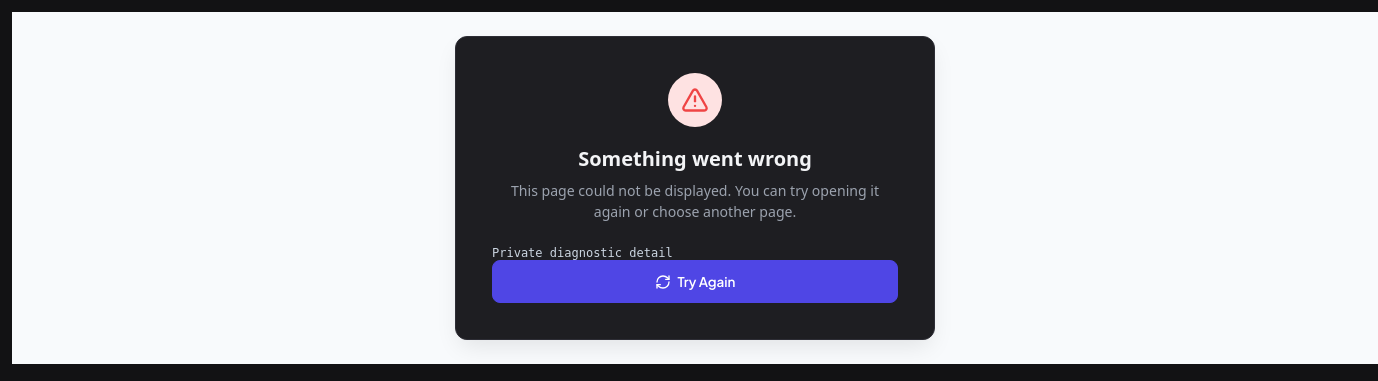
Test: view error recovery › retries a failed view without reloading the entire application
Click the button "Try Again": (695, 282) [492, 260, 898, 303]
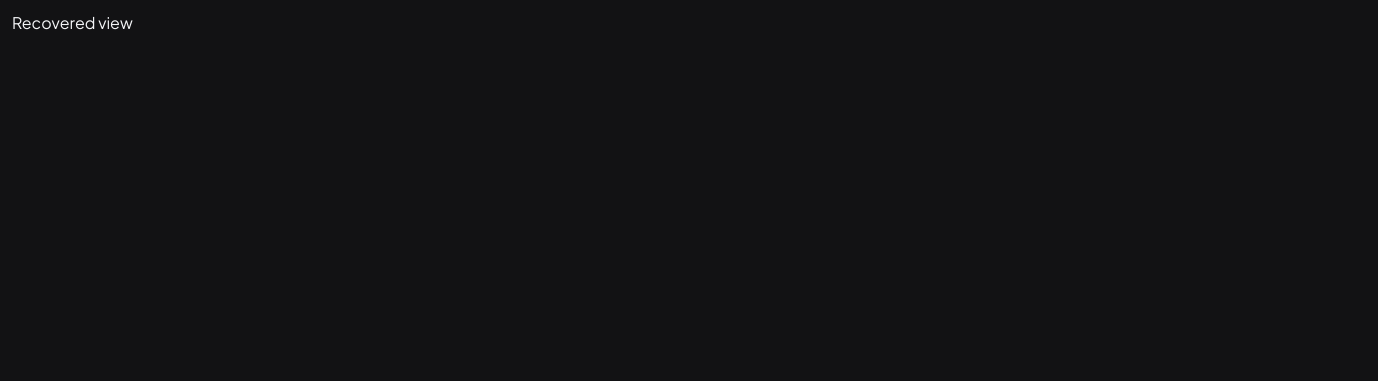
Expected: the text "Recovered view" is shown, [12, 12, 133, 33]
